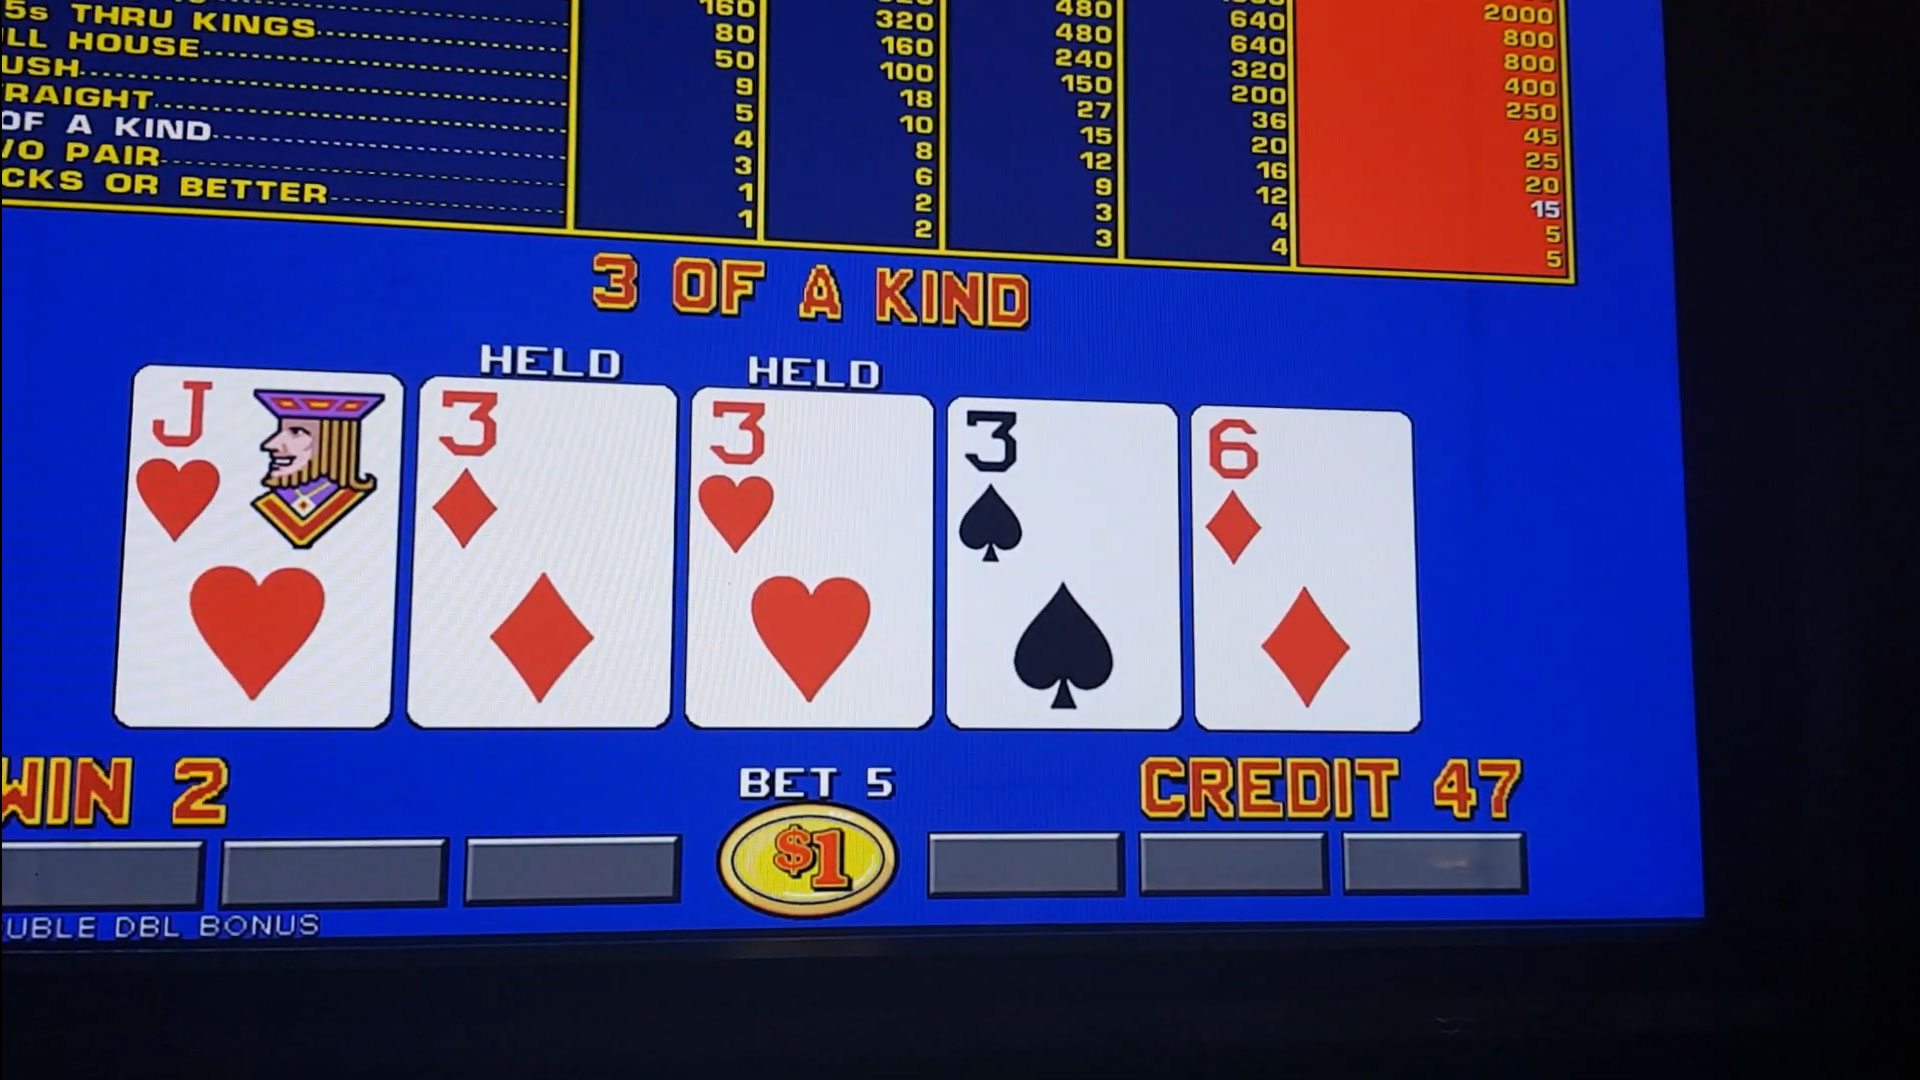D3: (425, 389, 670, 556)
D6: (1196, 411, 1407, 578)
H3: (696, 397, 934, 562)
HJ: (137, 380, 392, 558)
S3: (953, 410, 1168, 571)
